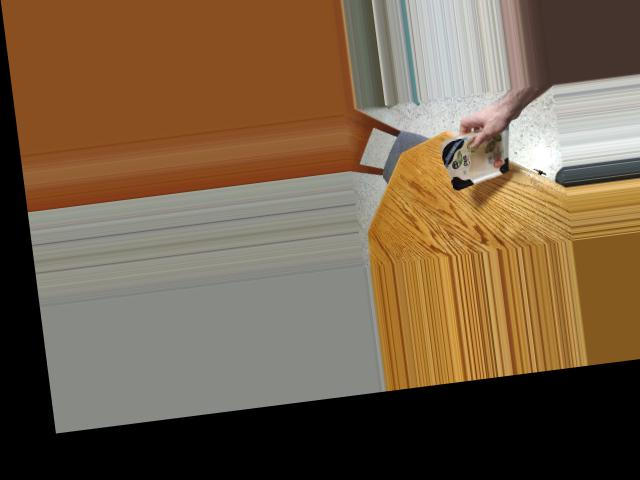cheese: (435, 121, 526, 187)
